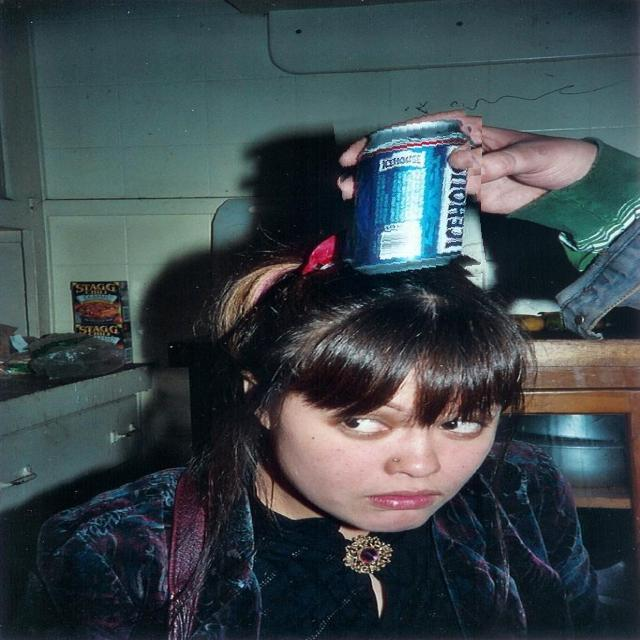recyclable: (339, 107, 482, 286)
